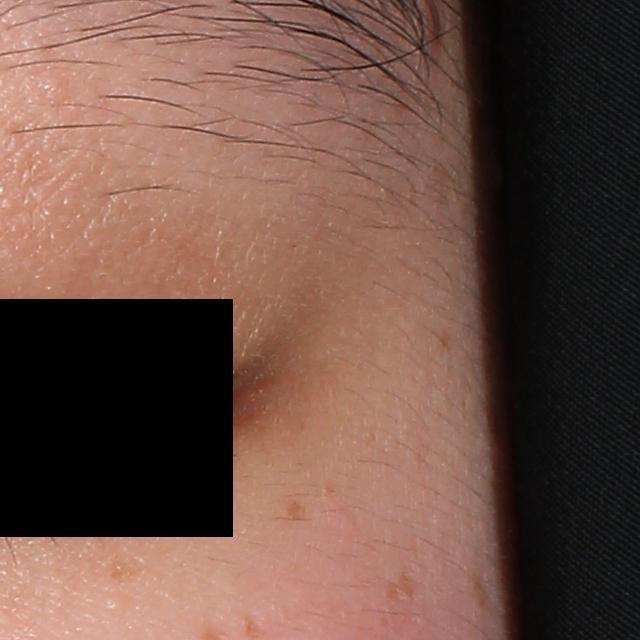melasma: (103, 556, 152, 587), (384, 578, 420, 599), (284, 498, 304, 523)
